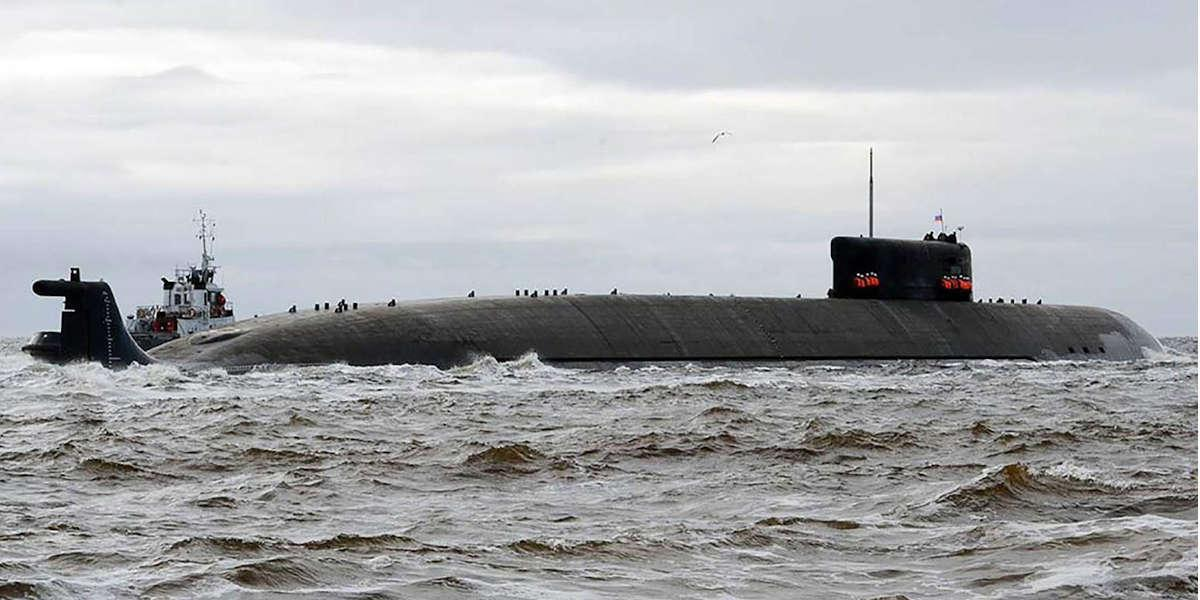Submarine: (0, 121, 1200, 600)
